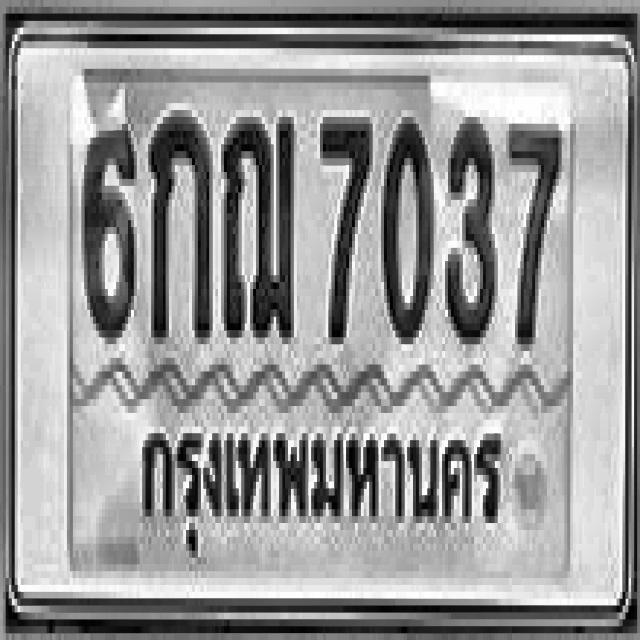license-plate: (7, 18, 635, 617)
